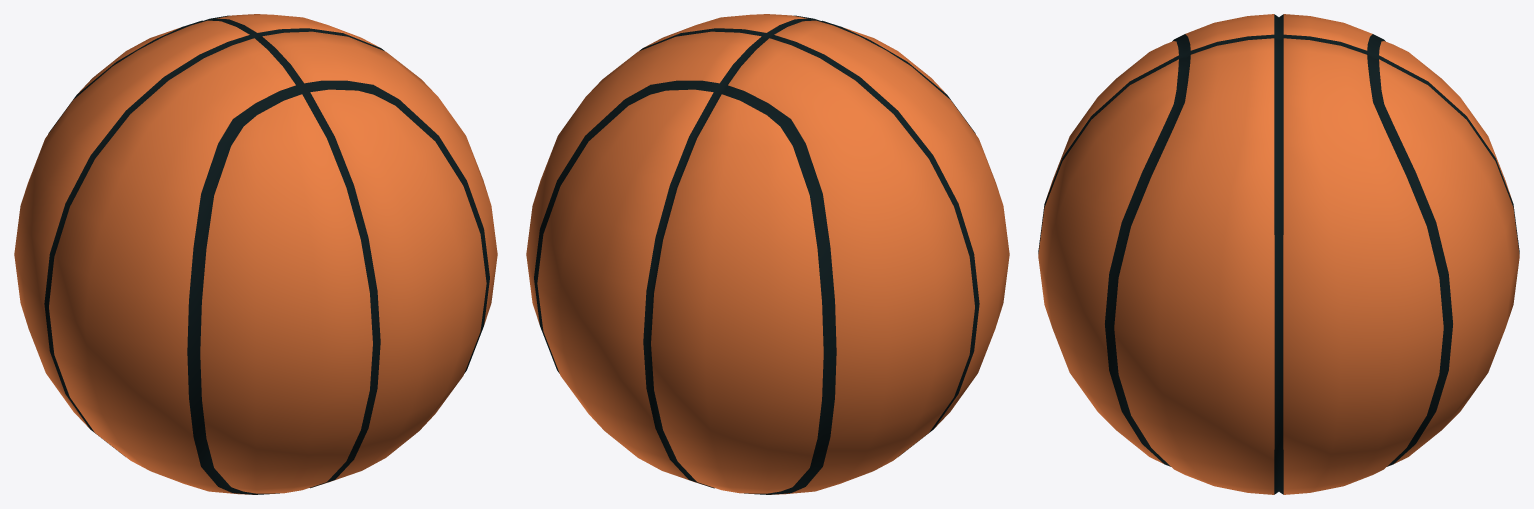
File: ball.glb
3 renders of one model, left to right at view 1: azimuth 30°, elevation 25°; view 2: azimuth 150°, elevation 25°; view 3: azimuth 270°, elevation 25°, orthographic.
Visible parts, largest first — view 1: Basketball_0, Basketball_1; view 2: Basketball_0, Basketball_1; view 3: Basketball_0, Basketball_1.
Boxes of the visible parts, box(x1,y1,x2,y2) form: Basketball_0: box(14, 14, 497, 494); Basketball_1: box(44, 15, 489, 494); Basketball_0: box(526, 14, 1009, 494); Basketball_1: box(534, 15, 979, 494); Basketball_0: box(1038, 14, 1519, 494); Basketball_1: box(1038, 14, 1519, 494).
Size of the model in its own units: 1.94 by 1.94 by 1.94.
